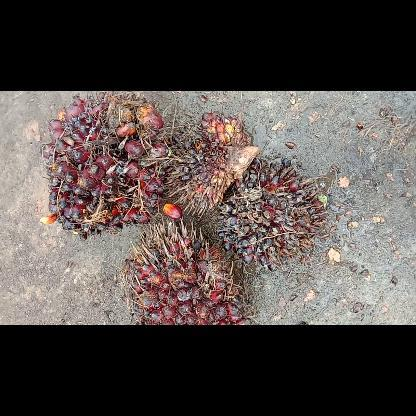Kurang masak: (41, 90, 168, 238)
TBS abnormal: (218, 157, 328, 271), (166, 111, 258, 217)
TBS masak: (122, 218, 244, 324)
